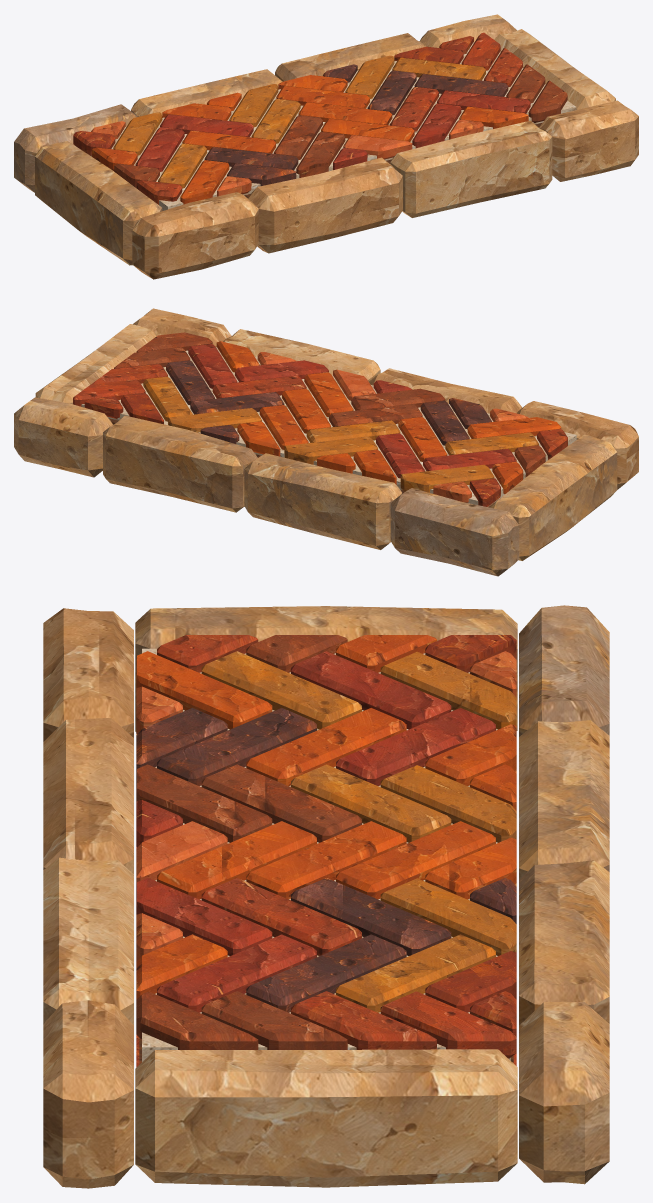
Rendered from floor_half__clay_brick.glb.
3 renders of one model, top to bottom at view 1: azimuth 30°, elevation 25°; view 2: azimuth 150°, elevation 25°; view 3: azimuth 270°, elevation 25°, orthographic. The views are drawn at different scales.
Parts seen in each view (by area): view 1: model; view 2: model; view 3: model.
Part boxes in pixels (x1,y1,x2,y2): model: (14,14,638,279); model: (14,308,638,576); model: (43,605,609,1188).
Size of the model in its own units: 1.99 by 0.2364 by 0.986.
15 materials, 15 textured.
